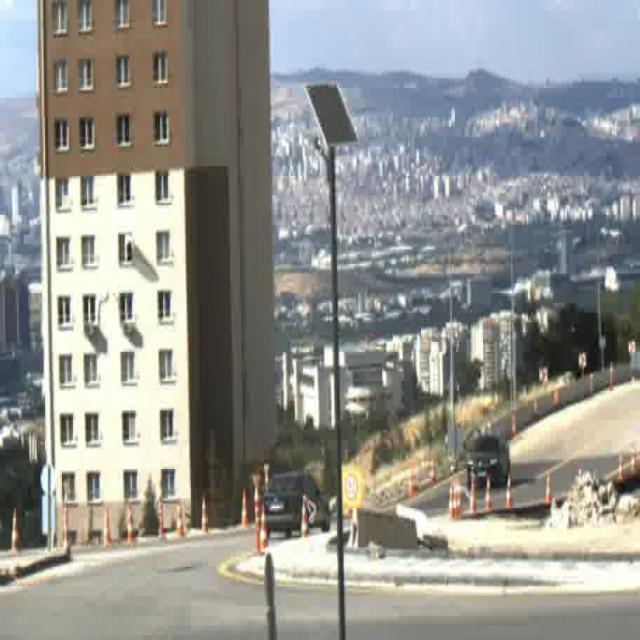Car: (261, 470, 331, 539), (466, 436, 510, 492)
